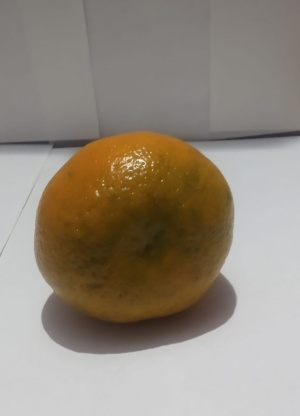BAD: (27, 132, 253, 329)
